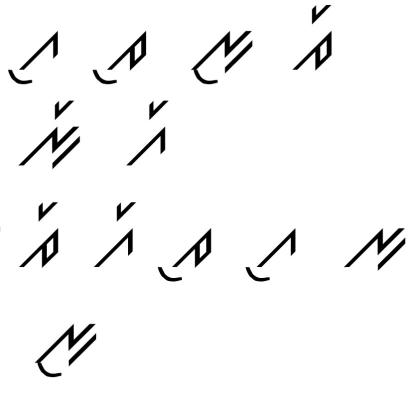gar: (85, 195, 143, 272), (126, 96, 181, 169)
gaw: (239, 221, 307, 286), (5, 24, 64, 90)
nga: (338, 219, 410, 277)
ngar: (16, 98, 86, 171)
ngaw: (28, 320, 100, 379), (188, 26, 256, 87)
tar: (281, 3, 344, 73), (17, 197, 68, 272)
taw: (153, 220, 214, 287), (90, 26, 151, 91)
